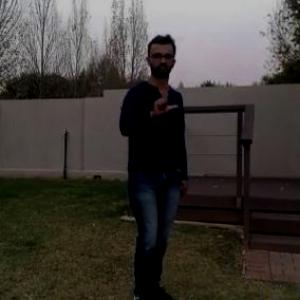land_hand: (149, 84, 177, 120)
